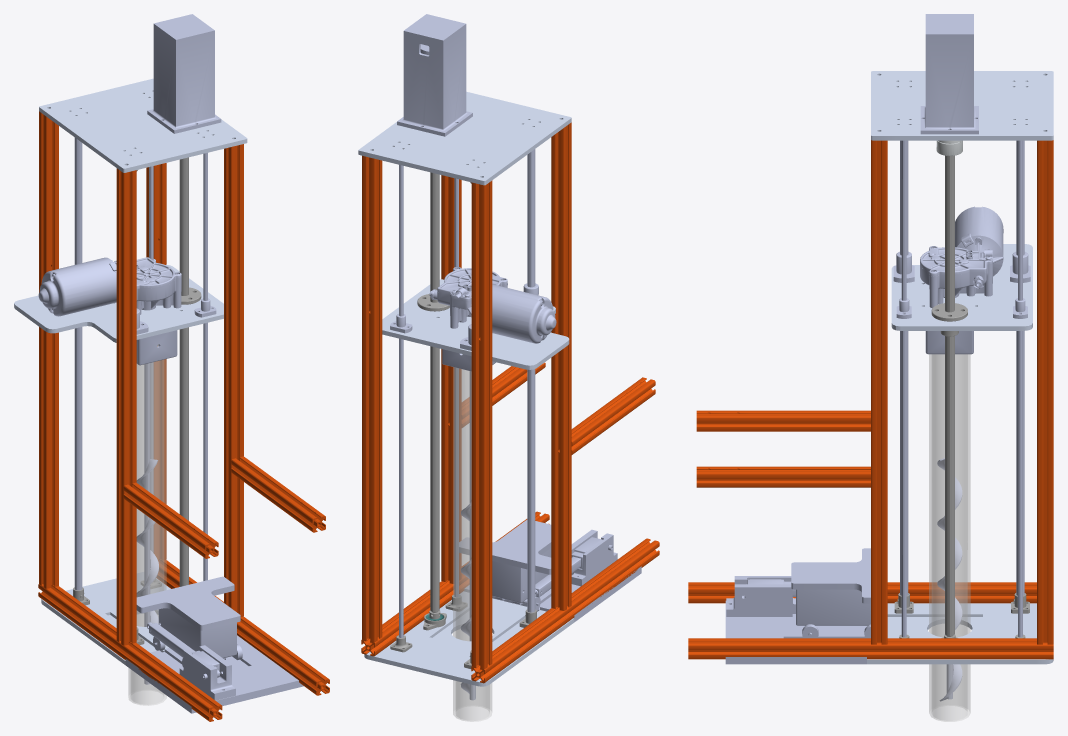
The model's file is drill.glb.
The picture shows the model from 3 angles, left to right: view 1: azimuth 30°, elevation 25°; view 2: azimuth 150°, elevation 25°; view 3: azimuth 270°, elevation 25°; orthographic projection. The views are drawn at different scales.
Parts seen in each view (by area): view 1: drill_body, drill_motor, drill_bit, drill_container; view 2: drill_body, drill_motor, drill_bit, drill_container; view 3: drill_body, drill_motor, drill_bit, drill_container.
Boxes of the visible parts, x1,y1,x2,y2 form: drill_body: (38, 14, 329, 721); drill_motor: (14, 257, 223, 365); drill_bit: (128, 344, 166, 705); drill_container: (153, 608, 242, 667); drill_body: (358, 14, 659, 686); drill_motor: (382, 267, 569, 371); drill_bit: (453, 354, 491, 721); drill_container: (492, 548, 551, 610); drill_body: (688, 14, 1053, 664); drill_motor: (891, 206, 1032, 354); drill_bit: (929, 354, 970, 721); drill_container: (796, 589, 870, 638).
Bounding box in the file's own units: 0.24 × 0.9417 × 0.44.
